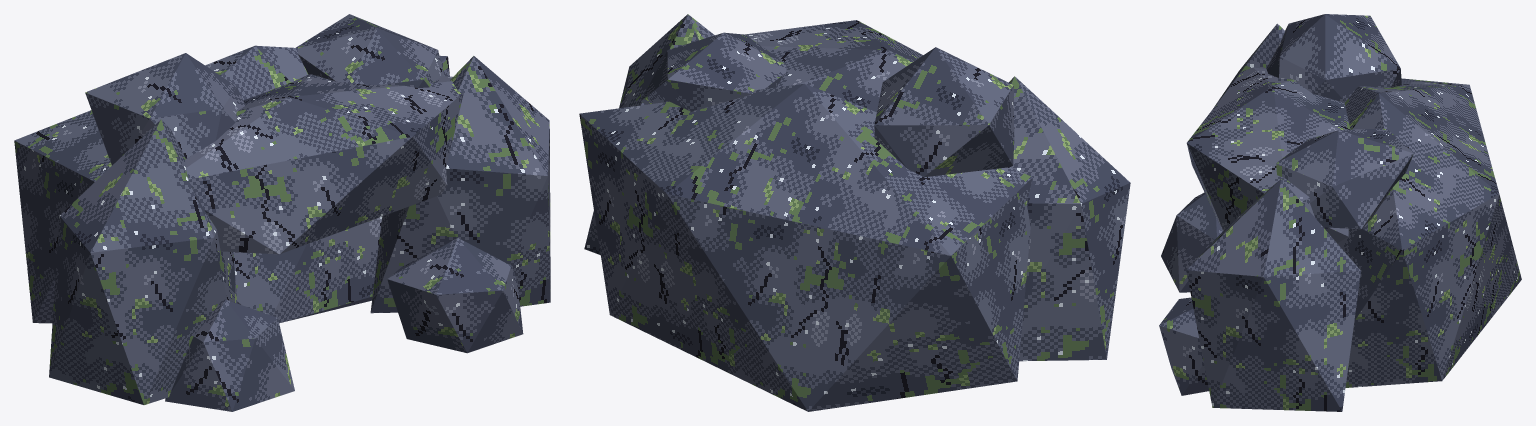
The model's file is plateado_cave.glb.
3 views of the same model, side by side, from view 1: azimuth 30°, elevation 25°; view 2: azimuth 150°, elevation 25°; view 3: azimuth 270°, elevation 25° (orthographic). The views are drawn at different scales.
Visible parts, largest first — view 1: Cave; view 2: Cave; view 3: Cave.
Part boxes in pixels (x1,y1,x2,y2): Cave: [14, 14, 550, 411]; Cave: [579, 14, 1130, 411]; Cave: [1159, 14, 1521, 411].
Size of the model in its own units: 10.2 by 5.81 by 7.2.
3 materials, 2 textured.
